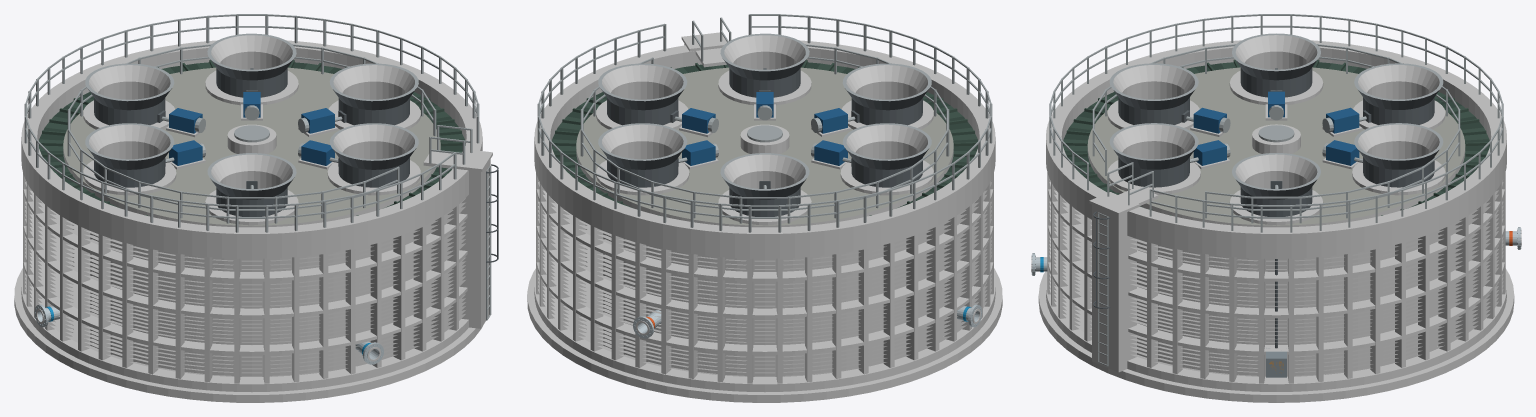
The model's file is body.obj.
3 views of the same model, side by side, from view 1: azimuth 30°, elevation 25°; view 2: azimuth 150°, elevation 25°; view 3: azimuth 270°, elevation 25° (orthographic).
Size of the model in its own units: 17 by 7.38 by 17.
